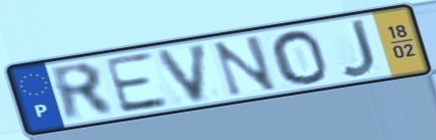E: (101, 50, 173, 116)
J: (337, 16, 379, 80)
N: (210, 32, 281, 99)
O: (268, 28, 331, 86)
R: (45, 61, 120, 124)
V: (153, 40, 211, 105)
